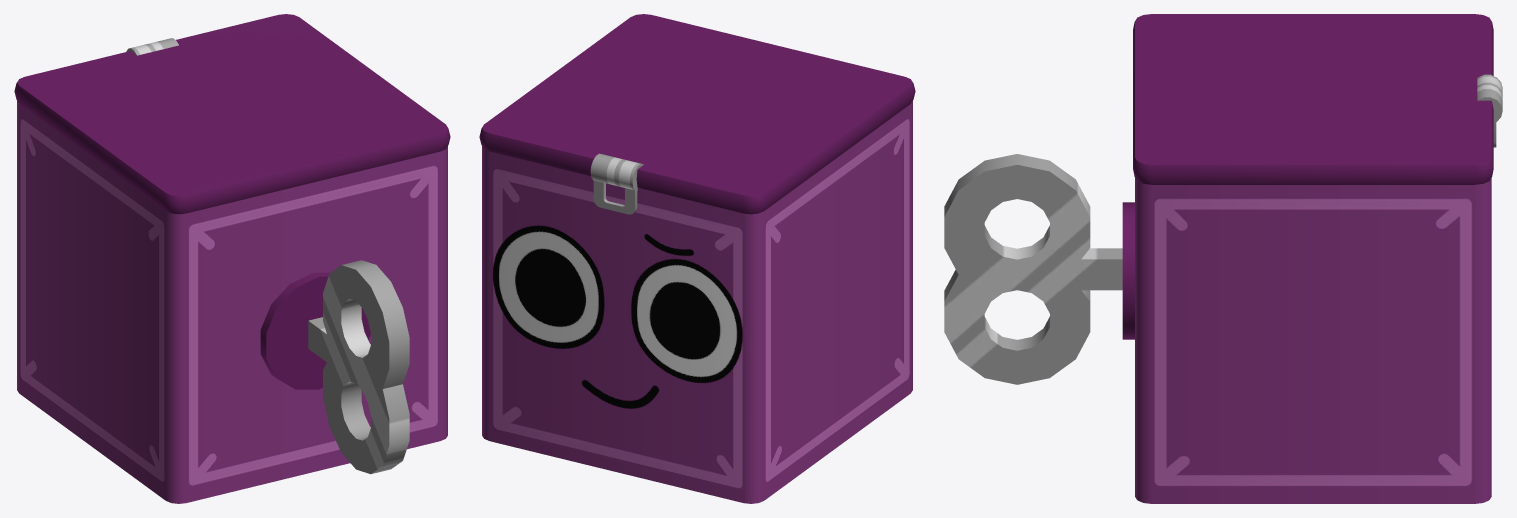
The model's file is boxten.glb.
3 renders of one model, left to right at view 1: azimuth 30°, elevation 25°; view 2: azimuth 150°, elevation 25°; view 3: azimuth 270°, elevation 25°, orthographic. The views are drawn at different scales.
Parts seen in each view (by area): view 1: Boxten Head; view 2: Boxten Head; view 3: Boxten Head.
Boxes of the visible parts, bbox=[...] form: Boxten Head: bbox=[14, 14, 450, 503]; Boxten Head: bbox=[479, 14, 915, 503]; Boxten Head: bbox=[944, 14, 1502, 503].
Size of the model in its own units: 2.37 by 2.48 by 3.66.
Materials: 1 (1 with a texture image).
